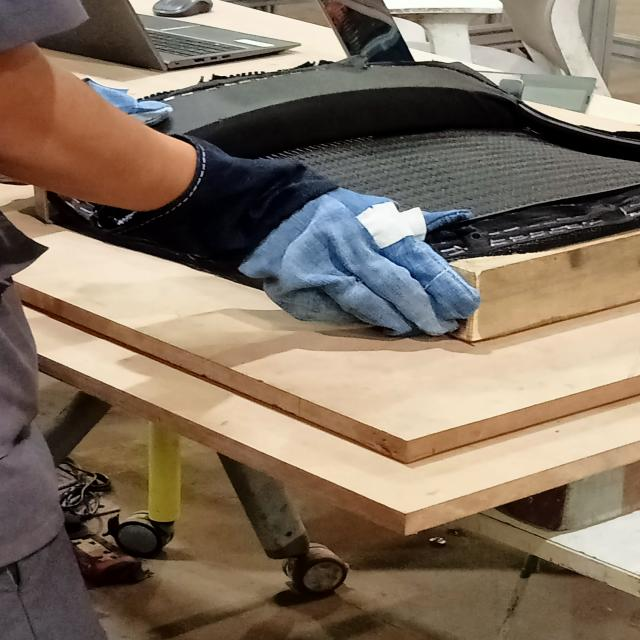Gloves-Detection: (177, 142, 468, 336)
